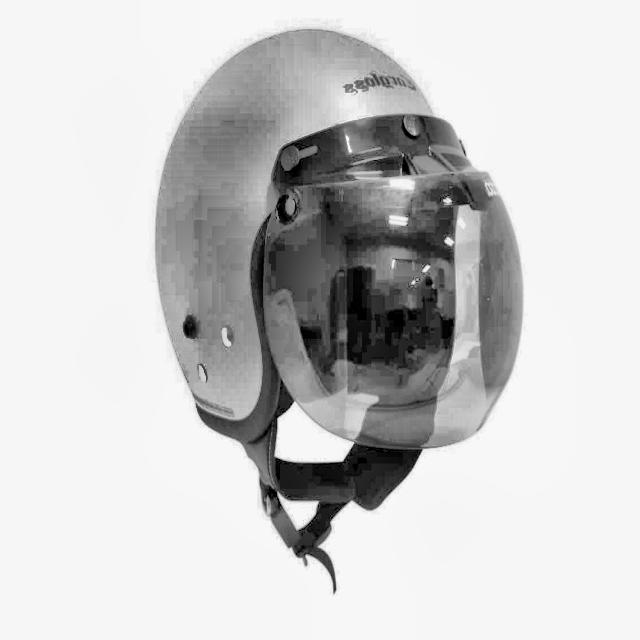Helmet: (152, 21, 528, 592)
